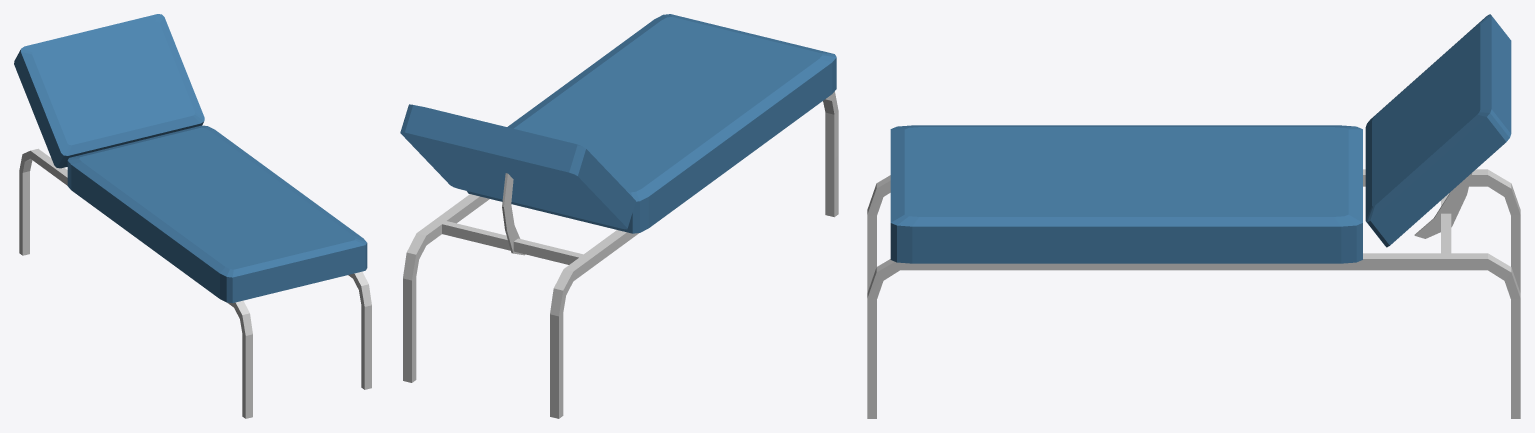
The model's file is diagnostic_table.fbx.
3 renders of one model, left to right at view 1: azimuth 30°, elevation 25°; view 2: azimuth 150°, elevation 25°; view 3: azimuth 270°, elevation 25°, orthographic. The views are drawn at different scales.
Parts seen in each view (by area): view 1: H_Stretcher; view 2: H_Stretcher; view 3: H_Stretcher.
Part boxes in pixels (left/top/right/bottom): H_Stretcher: left=14, top=14, right=371, bottom=418; H_Stretcher: left=400, top=14, right=838, bottom=418; H_Stretcher: left=867, top=14, right=1520, bottom=418.
Bounding box in the file's own units: 456 × 1245 × 654.
